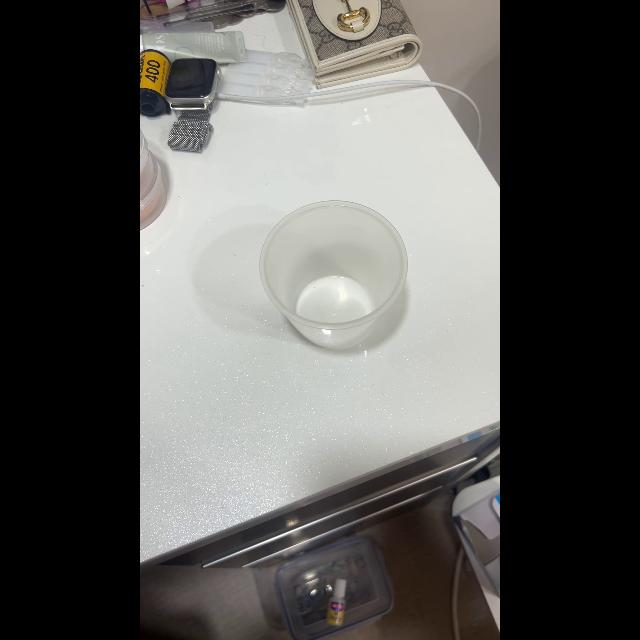clean: (258, 198, 410, 349)
